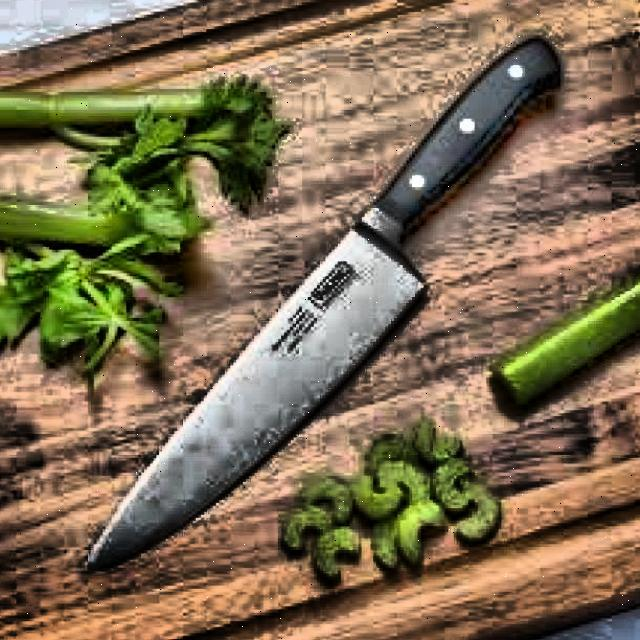knife: (77, 29, 565, 580)
